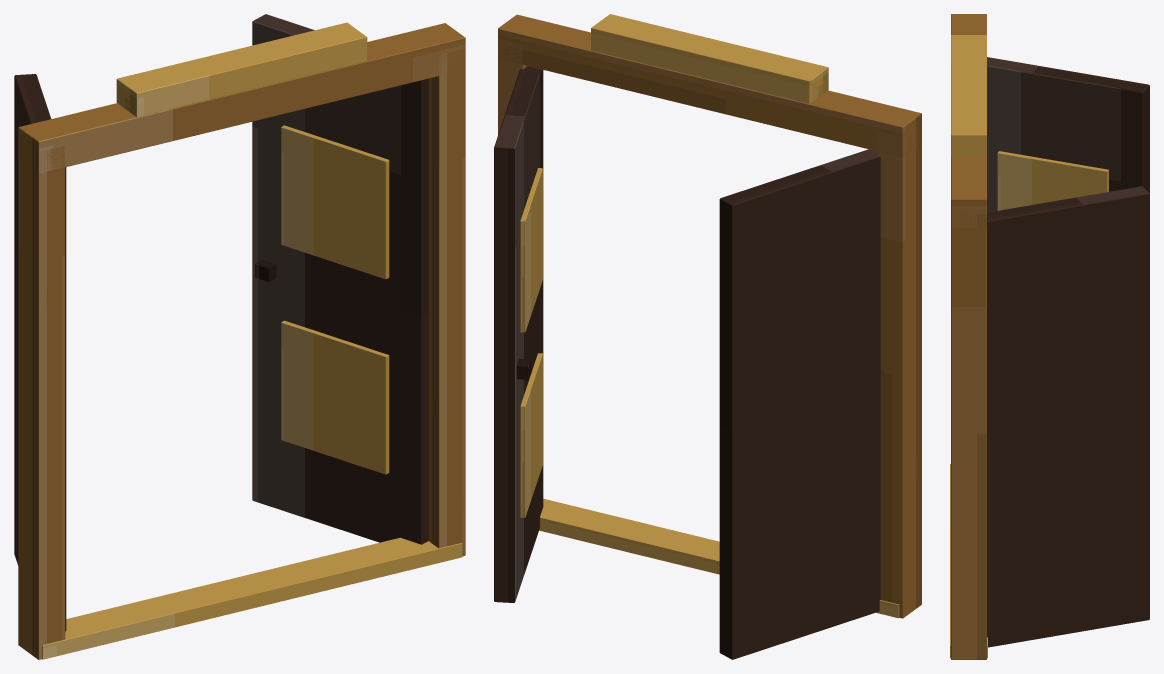
Rendered from luxury_double_room_door.glb.
The picture shows the model from 3 angles, left to right: view 1: azimuth 30°, elevation 25°; view 2: azimuth 150°, elevation 25°; view 3: azimuth 270°, elevation 25°; orthographic projection. The views are drawn at different scales.
Parts seen in each view (by area): view 1: OpenDoorLeafRight, DoorFrameL, DoorFrameR, DoorFrameTop, Threshold, DoorPanelRight_1, DoorPanelRight_2, DoorCrown, OpenDoorLeafLeft; view 2: OpenDoorLeafLeft, DoorFrameL, OpenDoorLeafRight, DoorFrameTop, DoorCrown, Threshold, DoorPanelRight_1, DoorPanelRight_2, DoorFrameR; view 3: OpenDoorLeafRight, OpenDoorLeafLeft, DoorFrameR, DoorPanelLeft_2, DoorCrown, DoorFrameTop.
Part boxes in pixels (x1,y1,x2,y2): OpenDoorLeafRight: (252,14,428,544); DoorFrameL: (18,138,65,659); DoorFrameR: (428,48,465,556); DoorFrameTop: (18,23,465,172); Threshold: (42,537,462,659); DoorPanelRight_1: (281,320,389,474); DoorPanelRight_2: (281,125,389,279); DoorCrown: (116,22,367,117); OpenDoorLeafLeft: (14,74,66,631); OpenDoorLeafLeft: (719,149,880,659); DoorFrameL: (877,124,921,618); OpenDoorLeafRight: (494,66,543,602); DoorFrameTop: (498,14,921,157); DoorCrown: (591,14,828,103); Threshold: (539,498,899,618); DoorPanelRight_1: (520,353,542,517); DoorPanelRight_2: (520,168,542,332); DoorFrameR: (498,38,526,134); OpenDoorLeafRight: (987,186,1149,647); OpenDoorLeafLeft: (987,57,1149,212); DoorFrameR: (951,208,986,659); DoorPanelLeft_2: (997,151,1108,210); DoorCrown: (951,35,986,156); DoorFrameTop: (951,14,986,227).
Bounding box in the file's own units: 2.2 × 2.67 × 1.
Materials: 1 (1 with a texture image).
